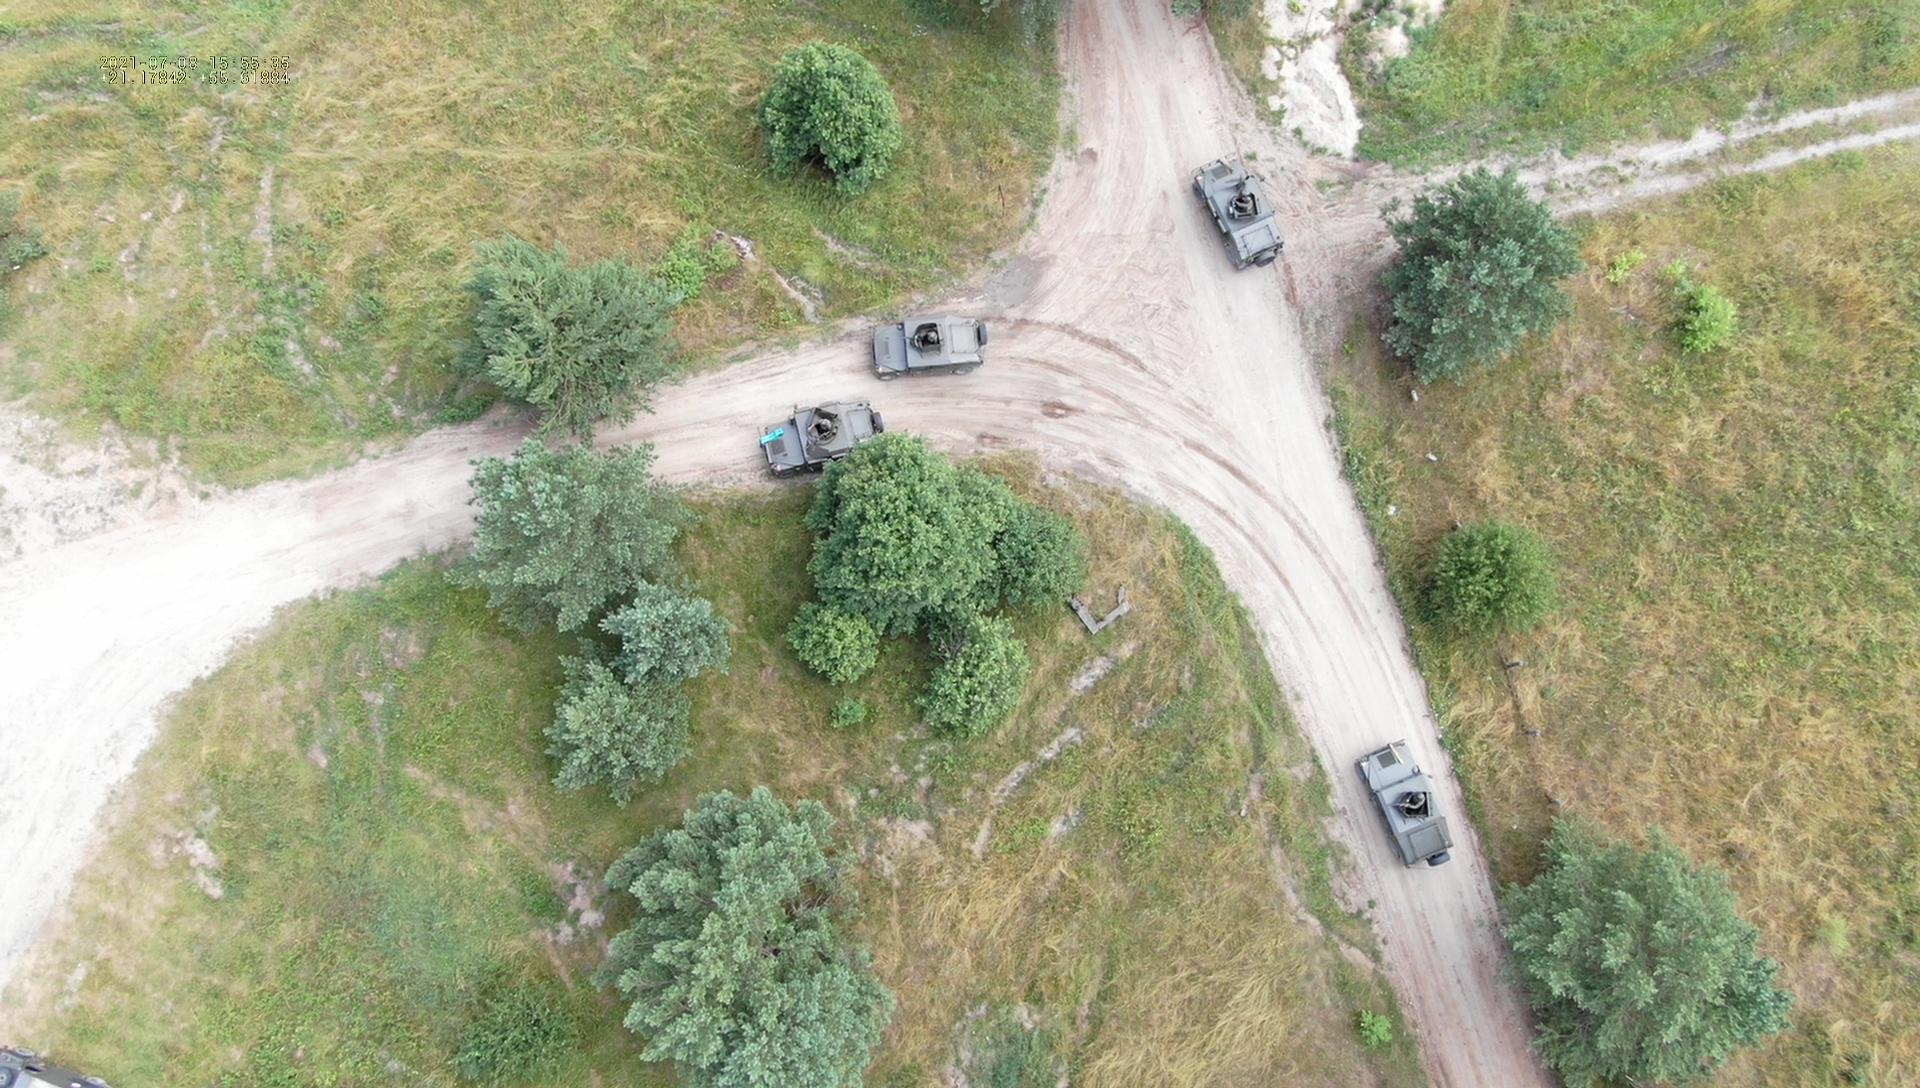Soldier: (808, 409, 843, 442), (1404, 783, 1433, 818), (1232, 189, 1261, 222), (918, 324, 945, 353)
